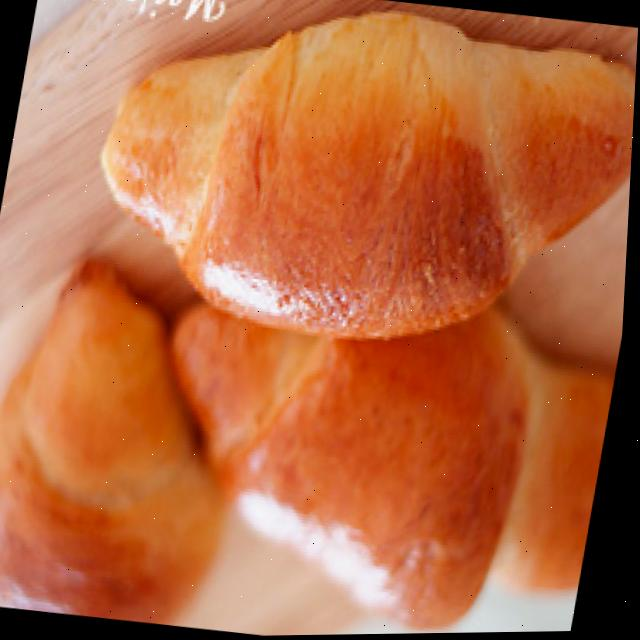面包点心: (68, 0, 640, 396)
